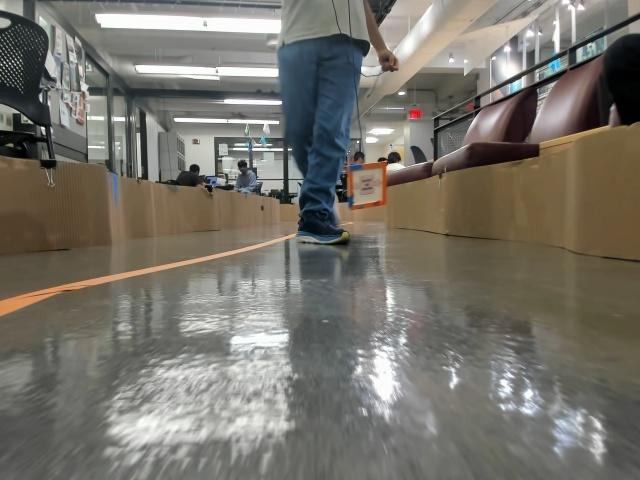Do Not Go Around: (353, 177, 380, 195)
